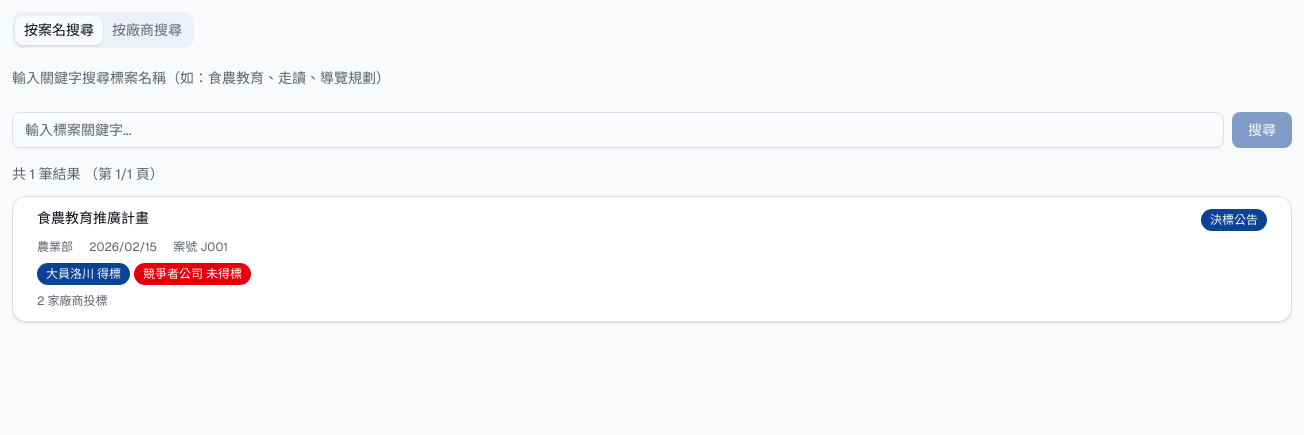
Explorer 整合測試 › 點機關名稱進入 AgencyView
Step 1. Click the button "農業部" → {"x": 55, "y": 247}, box [37,239,73,255]
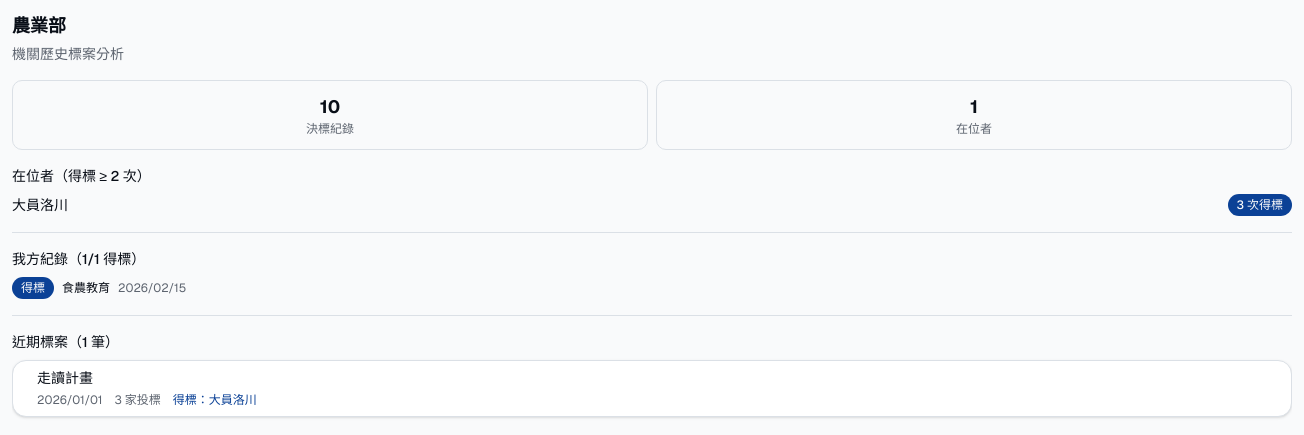
expect the heading "農業部" is shown: met, box [12,14,66,37]
expect the text "機關歷史標案分析" is shown: met, box [12,45,124,63]
